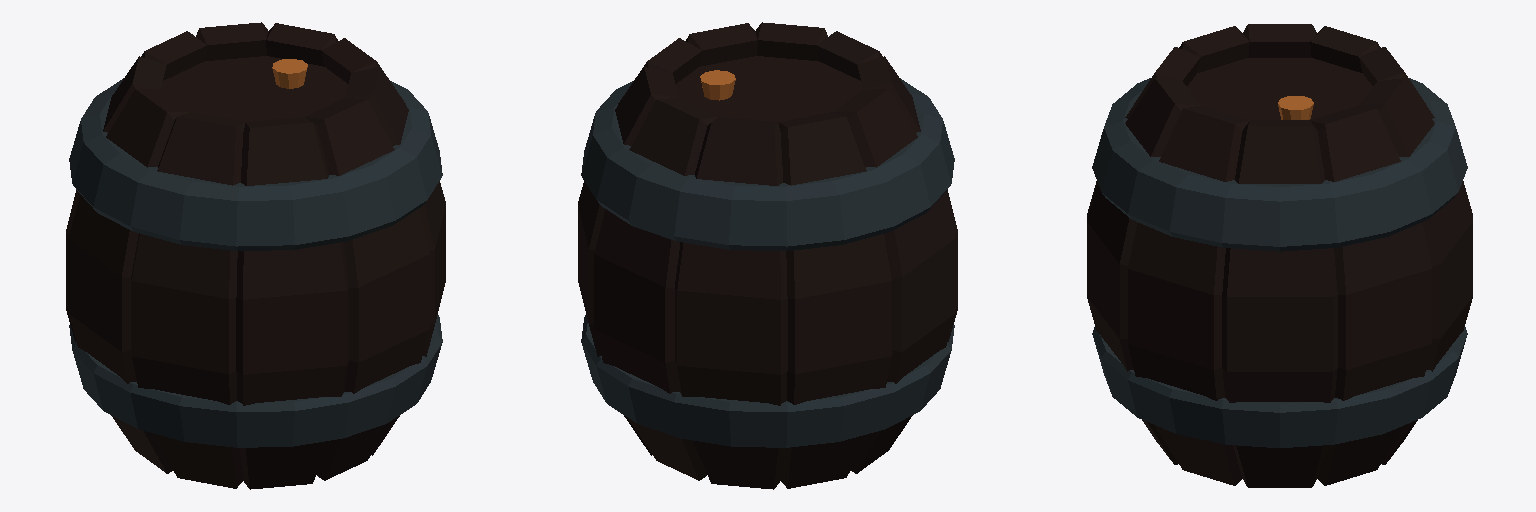
File: barrelDark.obj
3 renders of one model, left to right at view 1: azimuth 30°, elevation 25°; view 2: azimuth 150°, elevation 25°; view 3: azimuth 270°, elevation 25°, orthographic.
Parts seen in each view (by area): view 1: barrelDark_Cylinder.044; view 2: barrelDark_Cylinder.044; view 3: barrelDark_Cylinder.044.
Boxes of the visible parts, <box> form: barrelDark_Cylinder.044: <box>66,22,445,489</box>; barrelDark_Cylinder.044: <box>578,22,957,489</box>; barrelDark_Cylinder.044: <box>1087,24,1472,487</box>.
Size of the model in its own units: 0.9415 by 1 by 0.9684.